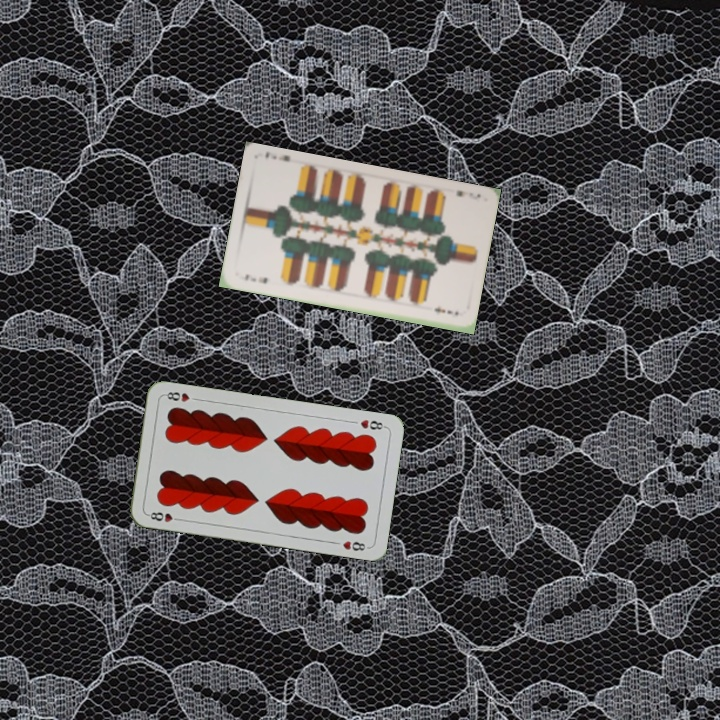E7: (452, 186, 484, 202), (240, 270, 270, 286)
H8: (144, 508, 184, 525), (356, 415, 388, 432)
